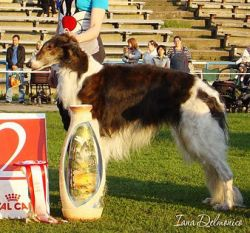borzoi: (26, 32, 242, 218)
